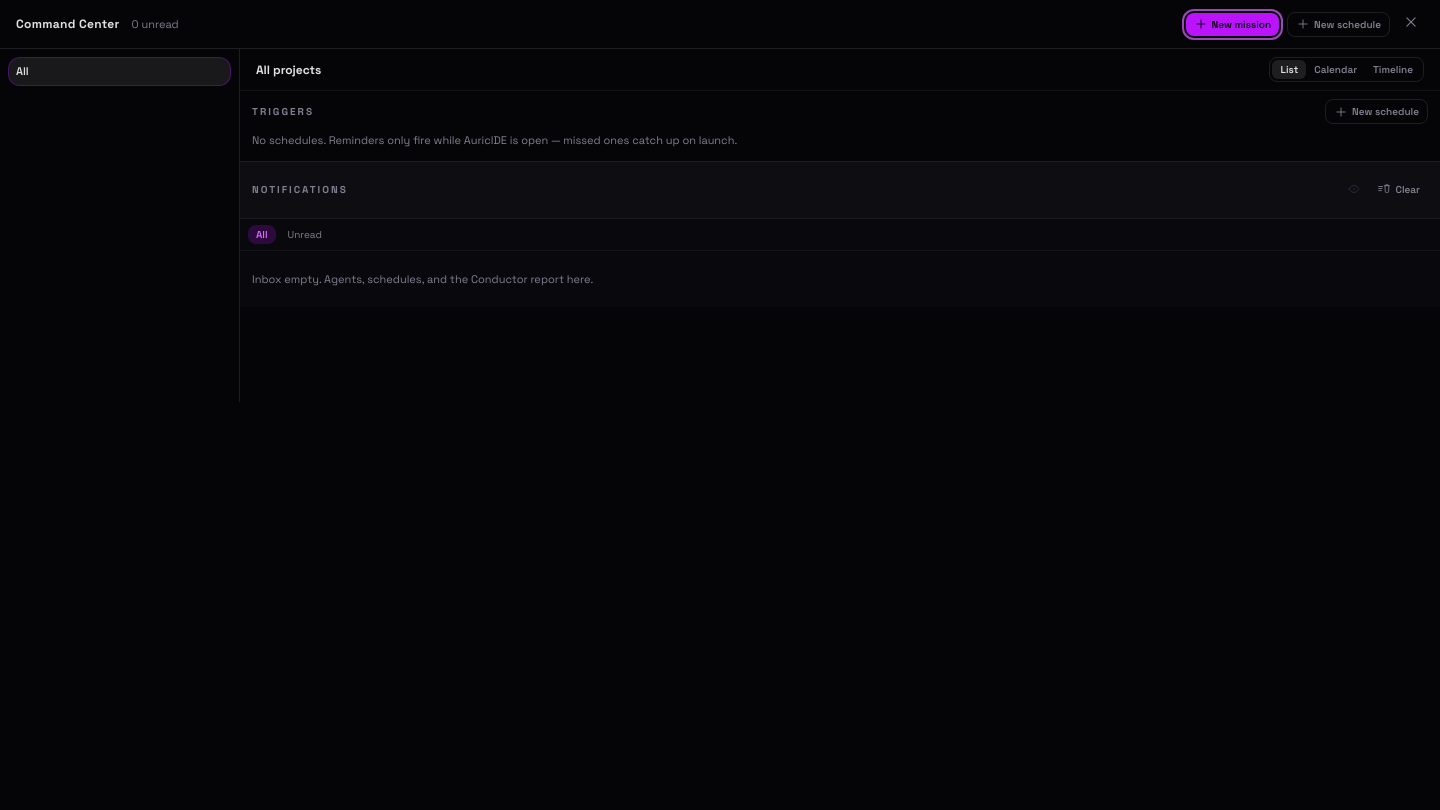
Test: CommandCenter › opens mission creation for the active project
Click the button with test id "command-center-new-mission": x=1232, y=24 [1186,12,1279,36]
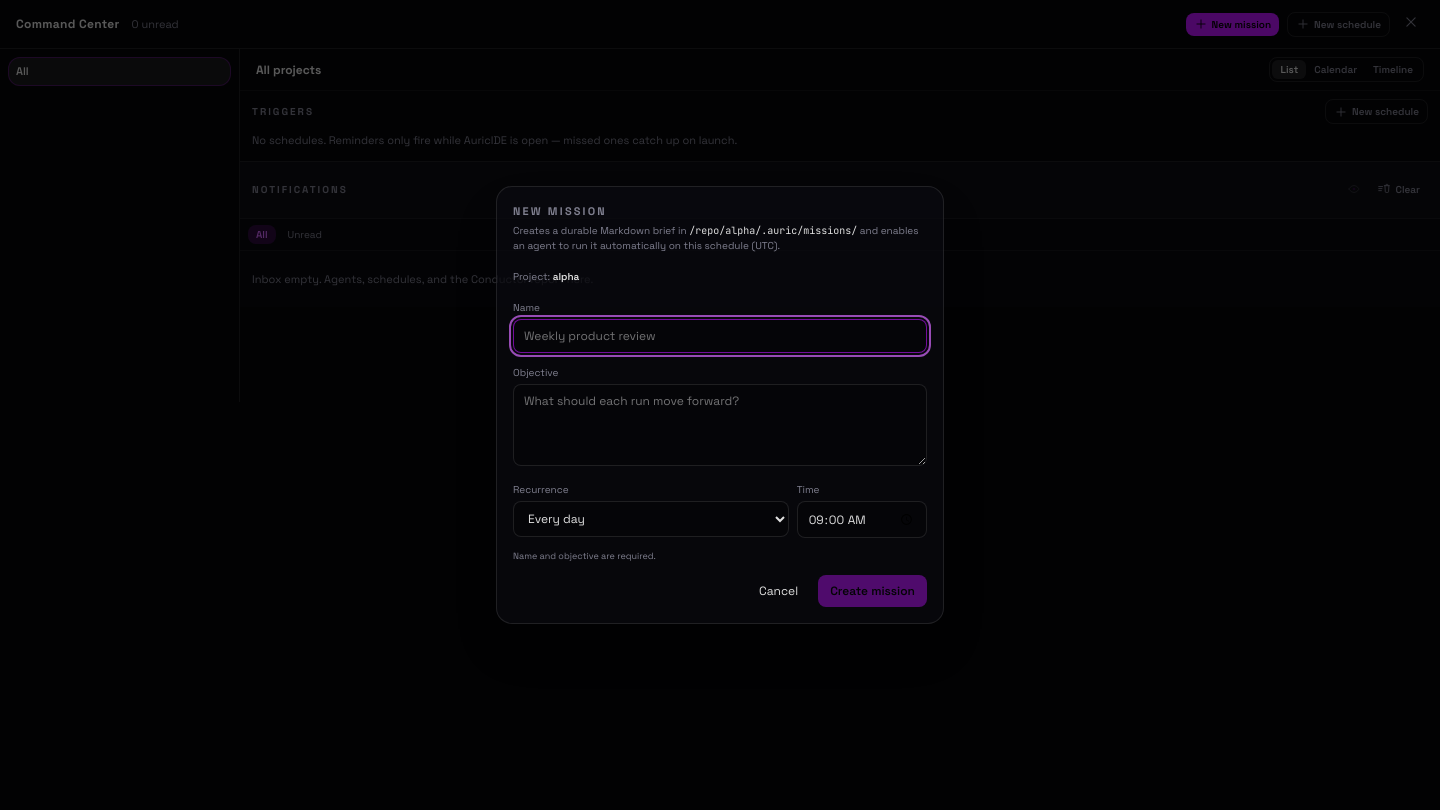
Now the dialog "New mission" is shown, box [496,186,944,624]
